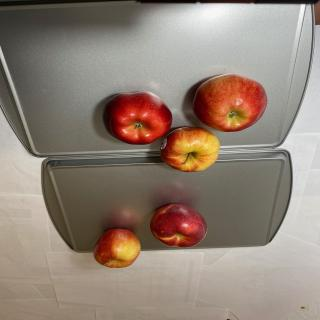Apple: (192, 73, 268, 132), (102, 91, 172, 145), (160, 126, 220, 172), (150, 203, 208, 248), (93, 228, 141, 268)
